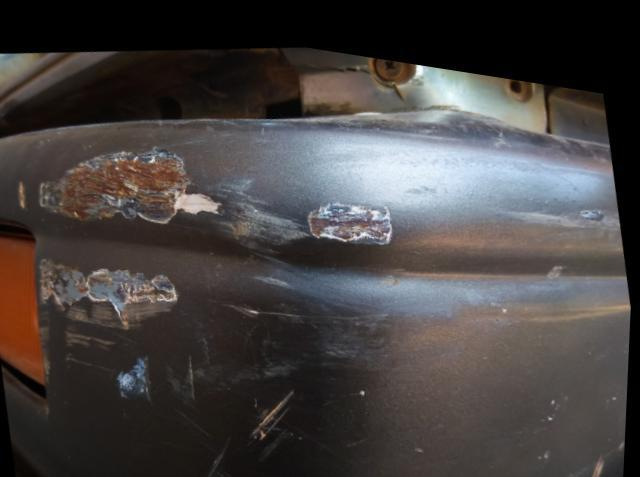crack: (289, 52, 404, 89)
dislocated part: (0, 37, 633, 477)
scratch: (40, 137, 410, 477), (504, 185, 622, 213)
